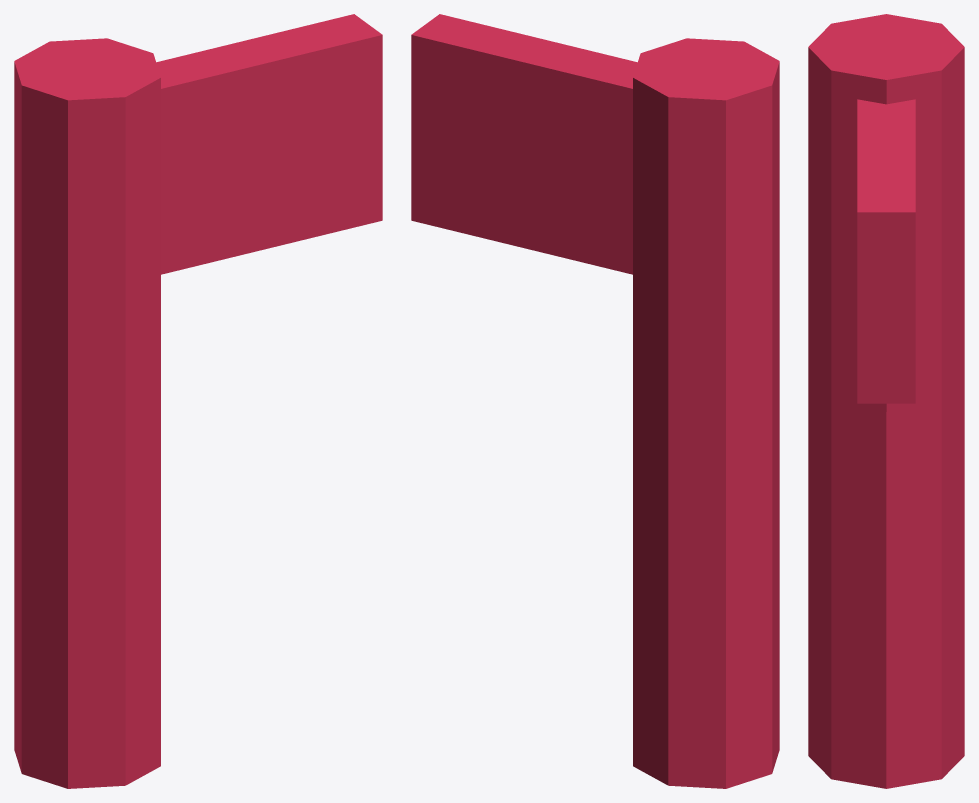
File: ttt.fbx
The picture shows the model from 3 angles, left to right: view 1: azimuth 30°, elevation 25°; view 2: azimuth 150°, elevation 25°; view 3: azimuth 270°, elevation 25°; orthographic projection. The views are drawn at different scales.
Visible parts, largest first — view 1: Axe; view 2: Axe; view 3: Axe.
Part boxes in pixels (<box>): Axe: <box>14,14,382,788</box>; Axe: <box>411,14,779,788</box>; Axe: <box>808,14,964,788</box>.
Size of the model in its own units: 26.34 by 50 by 10.
